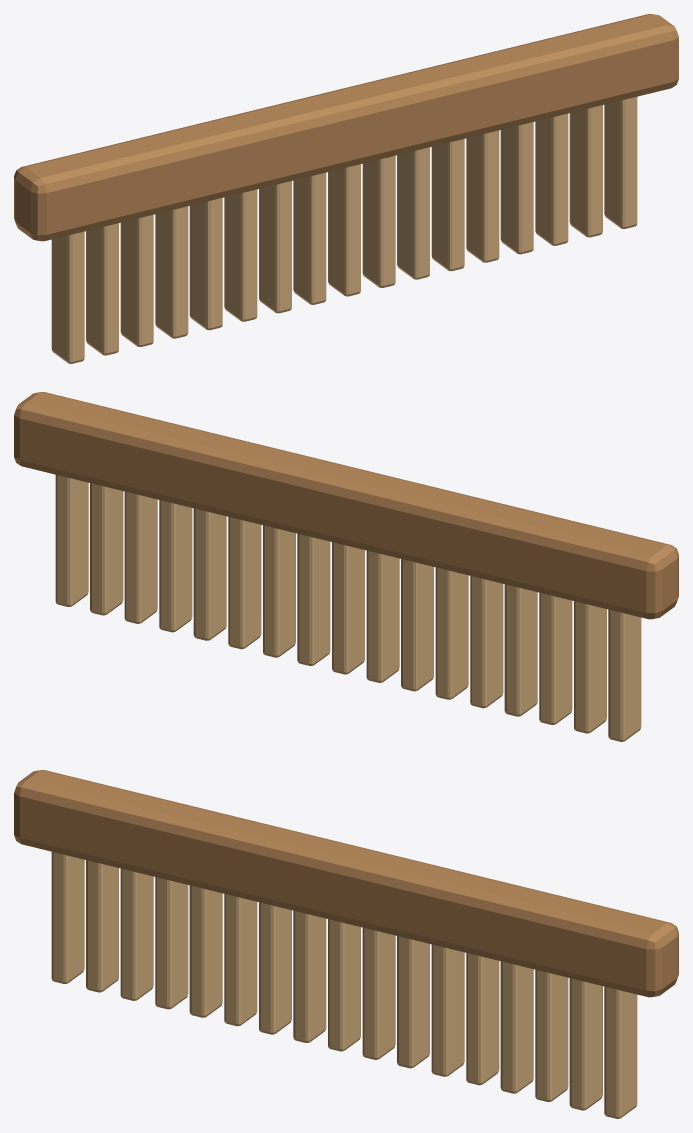
File: P089_comb.glb
The picture shows the model from 3 angles, top to bottom: view 1: azimuth 30°, elevation 25°; view 2: azimuth 150°, elevation 25°; view 3: azimuth 330°, elevation 25°; orthographic projection.
Visible parts, largest first — view 1: P089_spine_001, P089_tooth_005, P089_tooth_014, P089_tooth_007, P089_tooth_016, P089_tooth_018, P089_tooth_009, P089_tooth_011, P089_tooth_002, P089_tooth_006, P089_tooth_013, P089_tooth_017 (+6 smaller); view 2: P089_spine_001, P089_tooth_005, P089_tooth_014, P089_tooth_007, P089_tooth_016, P089_tooth_018, P089_tooth_009, P089_tooth_011, P089_tooth_002, P089_tooth_006, P089_tooth_013, P089_tooth_017 (+6 smaller); view 3: P089_spine_001, P089_tooth_013, P089_tooth_015, P089_tooth_017, P089_tooth_006, P089_tooth_004, P089_tooth_002, P089_tooth_011, P089_tooth_018, P089_tooth_007, P089_tooth_009, P089_tooth_014 (+6 smaller).
Boxes of the visible parts, x1=… form: P089_spine_001: x1=14, y1=14, x2=678, y2=241; P089_tooth_005: x1=155, y1=206, x2=188, y2=338; P089_tooth_014: x1=466, y1=130, x2=499, y2=262; P089_tooth_007: x1=224, y1=189, x2=257, y2=321; P089_tooth_016: x1=535, y1=113, x2=568, y2=245; P089_tooth_018: x1=604, y1=97, x2=637, y2=228; P089_tooth_009: x1=293, y1=172, x2=326, y2=304; P089_tooth_011: x1=362, y1=155, x2=395, y2=287; P089_tooth_002: x1=51, y1=231, x2=84, y2=363; P089_tooth_006: x1=189, y1=198, x2=222, y2=330; P089_tooth_013: x1=431, y1=139, x2=464, y2=271; P089_tooth_017: x1=569, y1=105, x2=602, y2=237; P089_spine_001: x1=14, y1=392, x2=678, y2=619; P089_tooth_005: x1=504, y1=584, x2=537, y2=716; P089_tooth_014: x1=193, y1=508, x2=226, y2=640; P089_tooth_007: x1=435, y1=567, x2=468, y2=699; P089_tooth_016: x1=124, y1=491, x2=157, y2=623; P089_tooth_018: x1=55, y1=475, x2=88, y2=606; P089_tooth_009: x1=366, y1=550, x2=399, y2=682; P089_tooth_011: x1=297, y1=533, x2=330, y2=665; P089_tooth_002: x1=608, y1=609, x2=641, y2=741; P089_tooth_006: x1=470, y1=576, x2=503, y2=708; P089_tooth_013: x1=228, y1=517, x2=261, y2=649; P089_tooth_017: x1=90, y1=483, x2=123, y2=615; P089_spine_001: x1=14, y1=770, x2=678, y2=997; P089_tooth_013: x1=431, y1=944, x2=464, y2=1076; P089_tooth_015: x1=500, y1=961, x2=533, y2=1093; P089_tooth_017: x1=569, y1=978, x2=602, y2=1110; P089_tooth_006: x1=189, y1=885, x2=222, y2=1017; P089_tooth_004: x1=120, y1=868, x2=153, y2=1000; P089_tooth_002: x1=51, y1=852, x2=84, y2=983; P089_tooth_011: x1=362, y1=927, x2=395, y2=1059; P089_tooth_018: x1=604, y1=986, x2=637, y2=1118; P089_tooth_007: x1=224, y1=894, x2=257, y2=1026; P089_tooth_009: x1=293, y1=910, x2=326, y2=1042; P089_tooth_014: x1=466, y1=953, x2=499, y2=1085.
Size of the model in its own units: 0.193 by 0.055 by 0.014.
